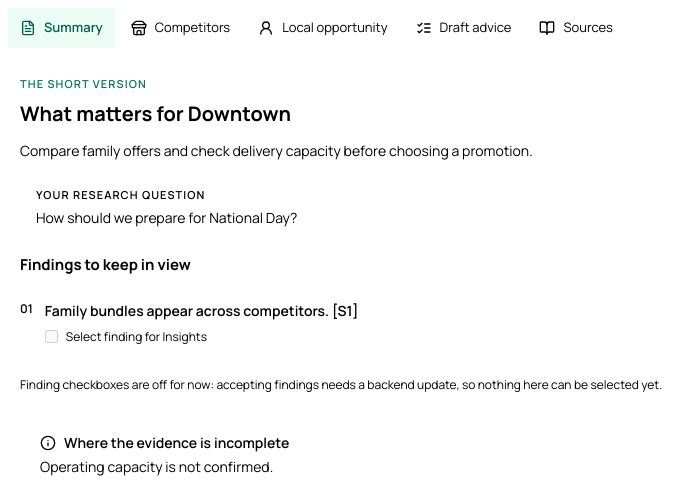
ReportReaderView › falls back to the short label when a source URL is malformed or missing
This screenshot has width=679, height=493.
Step 1. Click the button "Sources" → point(576, 28), box [528,8,625,48]
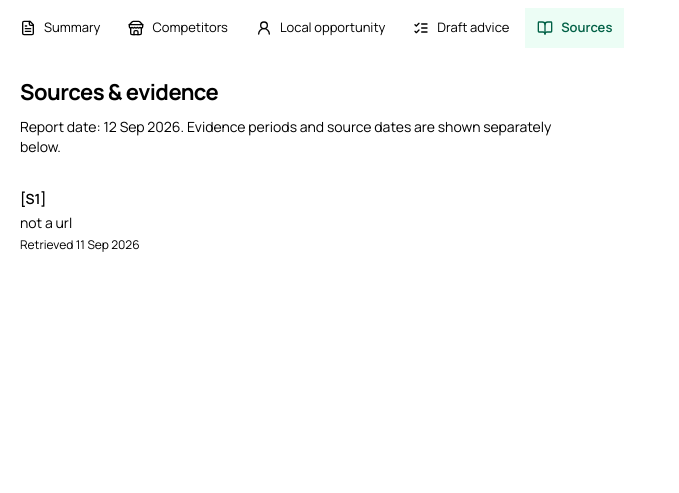
Expected: the element with test id "reader-source-S1" shows "[S1]", [26,188,40,208]
